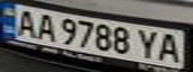7: (75, 19, 96, 48)
8: (90, 21, 115, 52), (112, 24, 136, 56)
9: (54, 16, 78, 46)
A: (154, 30, 187, 63), (30, 11, 60, 42), (12, 7, 39, 38)
Y: (133, 27, 163, 61)
